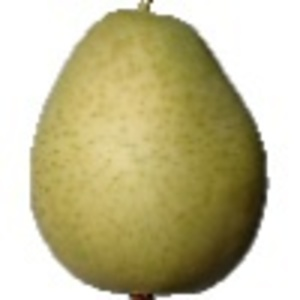pera: (28, 1, 269, 300)
